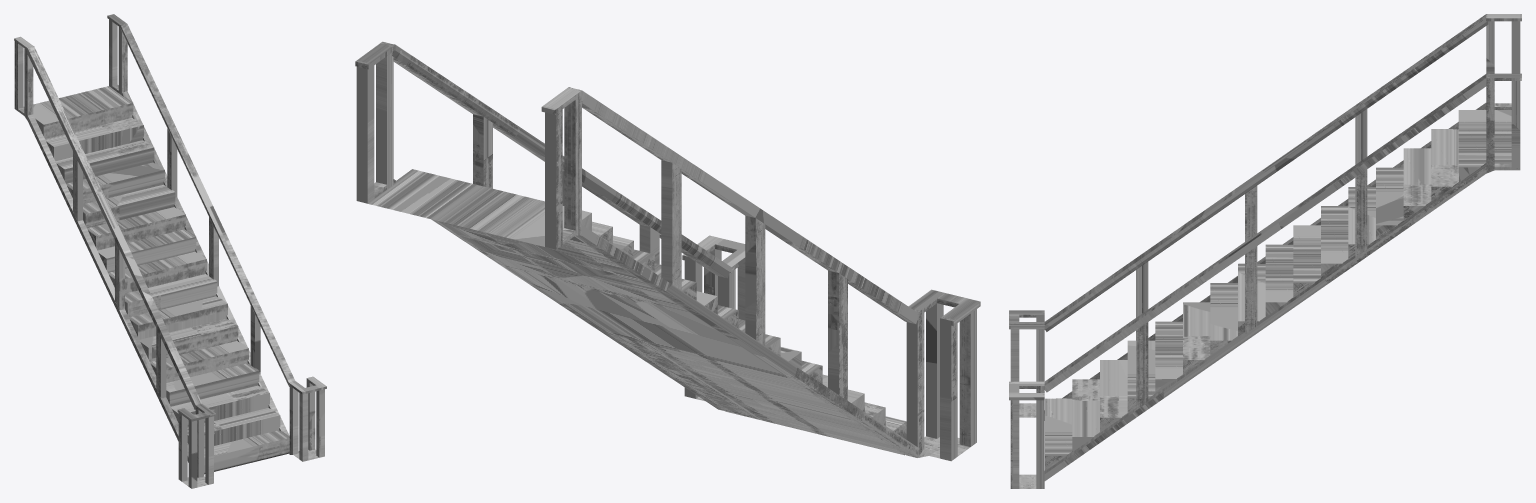
The model's file is Stairway_1.fbx.
3 views of the same model, side by side, from view 1: azimuth 30°, elevation 25°; view 2: azimuth 150°, elevation 25°; view 3: azimuth 270°, elevation 25° (orthographic). The views are drawn at different scales.
Visible parts, largest first — view 1: Stairway_1; view 2: Stairway_1; view 3: Stairway_1.
Boxes of the visible parts, left/top/right/bottom form: Stairway_1: left=14, top=14, right=326, bottom=488; Stairway_1: left=355, top=41, right=980, bottom=461; Stairway_1: left=1009, top=14, right=1521, bottom=488.
Bounding box in the file's own units: 498 × 1077 × 1241.
